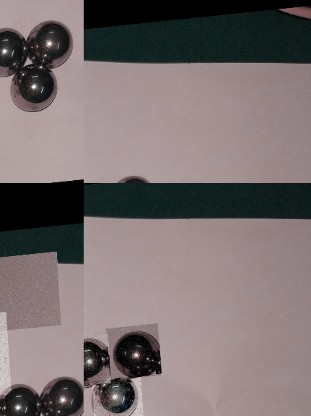ironball: (18, 16, 76, 73), (103, 325, 157, 381), (7, 61, 59, 116), (36, 371, 87, 414), (88, 378, 139, 415), (0, 22, 28, 78), (0, 381, 40, 414), (84, 335, 107, 388)
